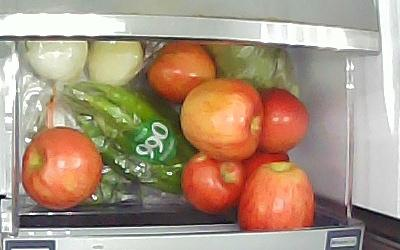apple: (178, 78, 264, 160), (22, 126, 103, 212), (238, 160, 317, 231), (149, 41, 216, 104), (181, 154, 245, 214), (257, 88, 311, 154), (242, 147, 290, 184)
